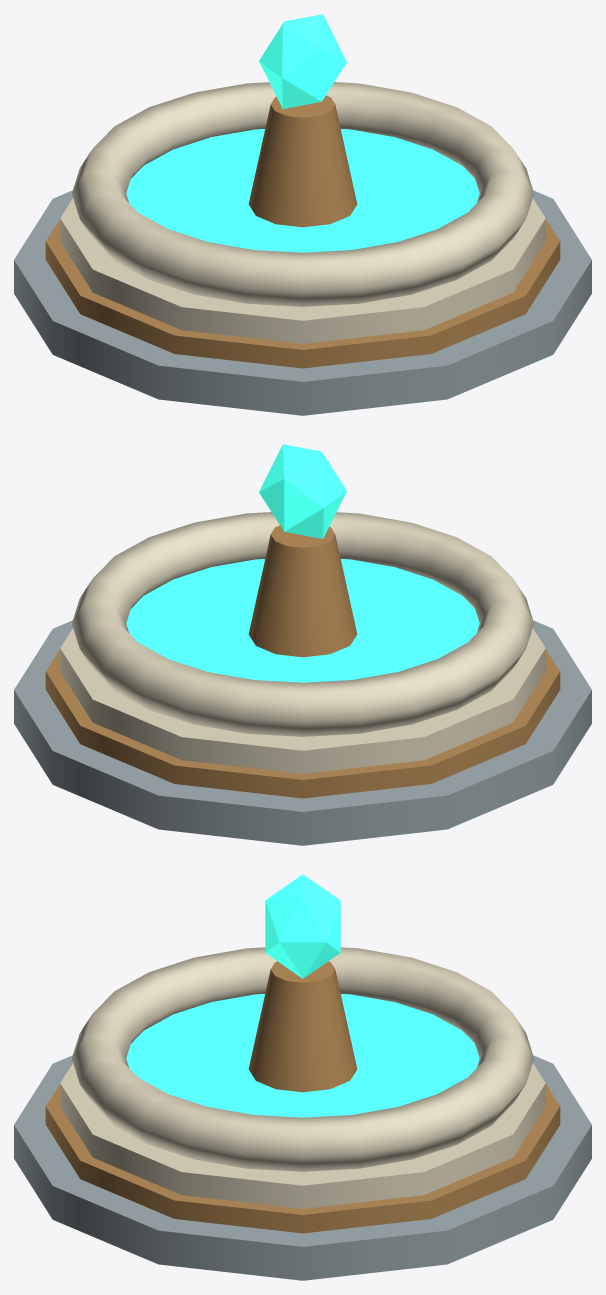
The model's file is sunfall-rift-moba-restoration-fountain-64f525c2__21983.glb.
3 renders of one model, top to bottom at view 1: azimuth 30°, elevation 25°; view 2: azimuth 150°, elevation 25°; view 3: azimuth 270°, elevation 25°, orthographic.
Parts seen in each view (by area): view 1: restoration-fountain; view 2: restoration-fountain; view 3: restoration-fountain.
Part boxes in pixels (box(x1,y1,x2,y2)): restoration-fountain: box(14, 14, 591, 415); restoration-fountain: box(14, 444, 591, 845); restoration-fountain: box(14, 874, 591, 1280).
Size of the model in its own units: 3.4 by 1.78 by 3.4.
